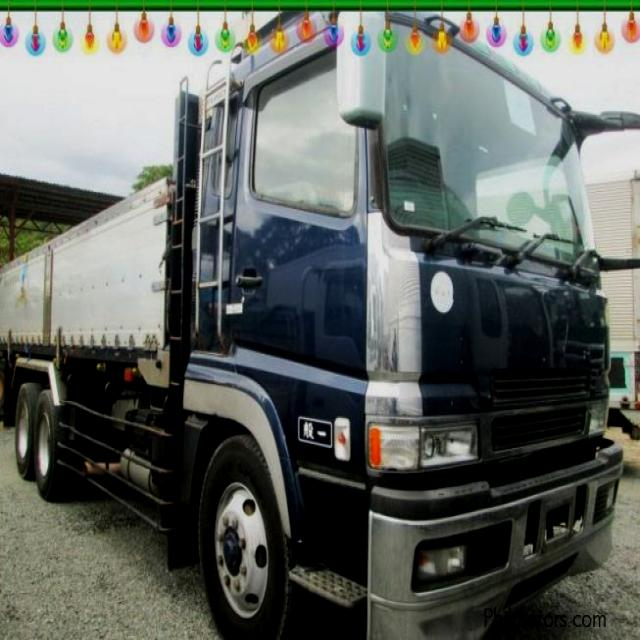truck: (1, 7, 623, 639)
